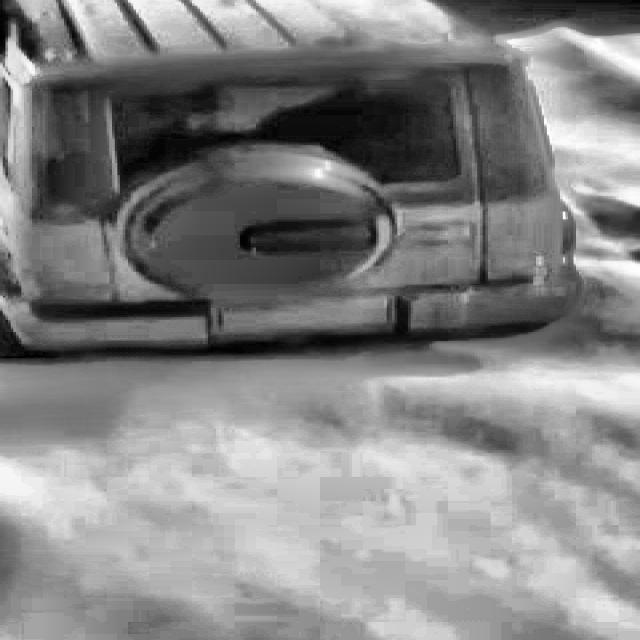light_vehicle: (0, 0, 600, 359)
